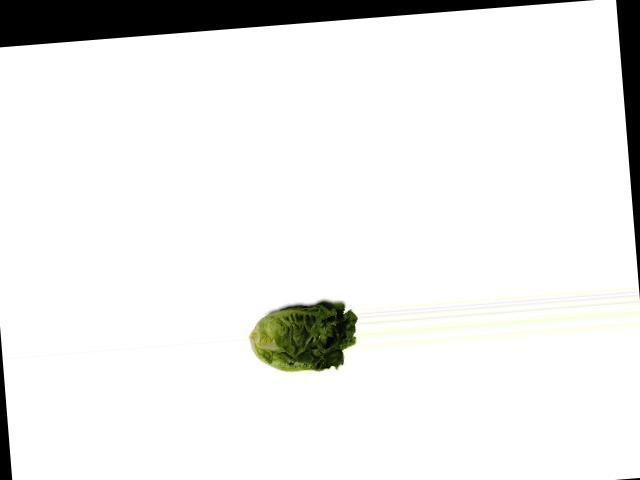lettuce: (246, 295, 358, 382)
